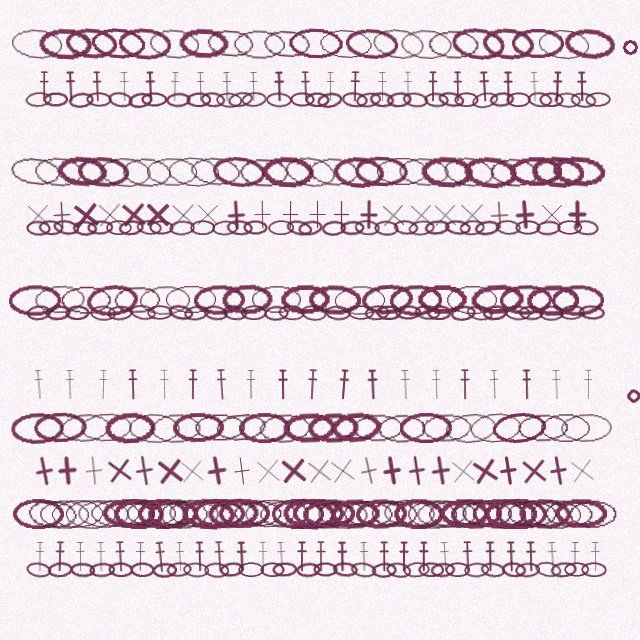chain: (282, 152, 338, 191), (450, 25, 507, 62), (370, 25, 426, 62), (7, 153, 63, 190), (441, 153, 497, 190), (536, 26, 592, 62), (462, 154, 518, 190), (491, 410, 547, 446), (211, 154, 266, 190), (85, 282, 140, 318), (443, 410, 498, 446), (90, 26, 146, 61), (117, 26, 173, 61), (563, 26, 617, 62), (9, 26, 64, 61), (481, 26, 536, 61), (166, 154, 221, 189), (188, 154, 243, 189), (530, 154, 585, 189), (551, 154, 606, 189), (360, 282, 415, 317), (213, 410, 268, 445), (468, 410, 523, 445), (64, 26, 118, 61), (147, 26, 201, 61), (32, 154, 86, 189), (25, 496, 79, 531), (318, 27, 373, 61), (344, 27, 399, 61), (76, 155, 131, 189), (98, 155, 153, 189), (257, 411, 312, 445), (204, 26, 257, 61), (56, 154, 109, 189), (330, 410, 383, 445), (399, 27, 453, 61), (120, 155, 174, 189), (307, 155, 361, 189), (332, 155, 386, 189), (397, 155, 451, 189), (58, 411, 112, 445), (288, 27, 343, 60), (79, 411, 134, 444), (243, 497, 298, 530), (488, 155, 541, 189), (38, 27, 92, 60), (354, 155, 408, 188), (33, 283, 87, 316), (470, 283, 524, 316), (33, 411, 87, 444), (181, 497, 235, 530), (282, 497, 336, 530), (382, 497, 436, 530), (261, 27, 313, 61), (127, 412, 182, 444), (559, 412, 614, 444), (261, 155, 314, 188), (420, 155, 473, 188), (221, 283, 274, 316), (104, 411, 157, 444), (167, 497, 220, 530), (207, 497, 260, 530), (232, 28, 286, 60), (426, 28, 480, 60), (8, 284, 62, 316), (138, 284, 192, 316), (499, 284, 553, 316), (551, 284, 605, 316), (10, 412, 64, 444), (149, 412, 203, 444), (282, 412, 336, 444), (420, 412, 474, 444), (50, 498, 104, 530), (76, 498, 130, 530), (316, 498, 370, 530), (415, 498, 469, 530), (472, 498, 526, 530), (518, 498, 572, 530), (178, 27, 230, 60), (145, 156, 198, 188), (237, 156, 290, 188), (193, 284, 246, 316), (308, 284, 361, 316), (333, 284, 386, 316), (389, 284, 442, 316), (526, 284, 579, 316), (307, 412, 360, 444), (351, 412, 404, 444), (516, 412, 569, 444), (64, 498, 117, 530), (258, 498, 311, 530), (302, 498, 355, 530), (341, 498, 394, 530), (355, 498, 408, 530), (450, 498, 503, 530), (505, 498, 558, 530), (529, 498, 582, 530), (511, 28, 565, 59), (375, 156, 429, 187), (399, 412, 453, 443), (376, 412, 428, 444), (38, 498, 90, 530), (147, 498, 199, 530), (158, 498, 210, 530), (406, 498, 458, 530), (543, 498, 595, 530), (509, 156, 562, 187), (59, 284, 112, 315), (164, 284, 217, 315), (250, 284, 303, 315), (445, 284, 498, 315), (172, 412, 225, 443), (193, 412, 246, 443), (539, 412, 592, 443), (89, 498, 142, 529), (102, 498, 155, 529), (125, 498, 178, 529), (193, 498, 246, 529), (218, 498, 271, 529), (271, 498, 324, 529), (292, 498, 345, 529), (460, 498, 513, 529), (484, 498, 537, 529), (495, 498, 548, 529), (554, 498, 607, 529), (112, 284, 163, 316), (330, 498, 381, 530), (369, 498, 420, 530), (238, 412, 290, 443), (12, 498, 64, 529), (113, 498, 165, 529), (137, 498, 189, 529), (232, 498, 284, 529), (393, 498, 445, 529), (426, 498, 478, 529), (567, 498, 619, 529), (280, 284, 331, 315), (417, 284, 468, 315), (439, 498, 490, 529), (471, 90, 499, 110), (285, 218, 313, 238), (437, 90, 465, 109), (52, 218, 80, 237), (129, 303, 157, 322), (534, 560, 562, 579), (107, 90, 134, 109), (227, 90, 254, 109), (167, 303, 194, 322), (127, 91, 154, 109), (316, 91, 343, 109), (355, 91, 382, 109), (402, 91, 429, 109), (570, 91, 597, 109), (297, 219, 324, 237), (408, 219, 435, 237), (183, 304, 210, 322), (202, 304, 229, 322), (300, 304, 327, 322), (466, 304, 493, 322), (25, 561, 52, 579), (350, 561, 377, 579), (385, 561, 412, 579), (68, 91, 94, 109), (474, 219, 500, 237), (450, 304, 476, 322), (480, 561, 506, 579), (25, 91, 52, 108), (341, 91, 368, 108), (226, 219, 253, 236), (444, 219, 471, 236), (278, 304, 305, 321), (414, 304, 441, 321), (578, 304, 605, 321), (403, 561, 430, 578), (550, 561, 577, 578), (200, 91, 226, 108), (241, 91, 267, 108), (369, 91, 395, 108), (386, 91, 412, 108), (489, 91, 515, 108), (527, 91, 553, 108), (38, 219, 64, 236), (118, 219, 144, 236), (136, 219, 162, 236), (354, 219, 380, 236), (393, 219, 419, 236), (424, 219, 450, 236), (459, 219, 485, 236), (495, 219, 521, 236), (573, 219, 599, 236), (26, 304, 52, 321), (45, 304, 71, 321), (222, 304, 248, 321), (364, 304, 390, 321), (482, 304, 508, 321), (559, 304, 585, 321), (47, 561, 73, 578), (166, 561, 192, 578), (219, 561, 245, 578), (332, 561, 358, 578), (501, 561, 527, 578), (554, 92, 581, 108), (216, 92, 242, 108), (266, 92, 292, 108), (72, 220, 98, 236), (169, 220, 195, 236), (212, 220, 238, 236), (321, 220, 347, 236), (90, 305, 116, 321), (107, 305, 133, 321), (325, 305, 351, 321), (505, 305, 531, 321), (518, 305, 544, 321), (89, 562, 115, 578), (183, 562, 209, 578), (371, 562, 397, 578), (430, 562, 456, 578), (166, 92, 191, 108), (424, 92, 449, 108), (26, 220, 51, 236), (340, 220, 365, 236), (374, 220, 399, 236), (536, 220, 561, 236), (264, 305, 289, 321), (539, 305, 564, 321), (70, 562, 95, 578), (152, 562, 177, 578), (204, 562, 229, 578), (296, 562, 321, 578), (464, 562, 489, 578), (515, 562, 540, 578), (86, 92, 112, 107), (141, 92, 167, 107), (585, 92, 611, 107), (87, 220, 113, 235), (106, 220, 132, 235), (268, 220, 294, 235), (515, 220, 541, 235), (147, 305, 173, 320), (241, 305, 267, 320), (348, 305, 374, 320), (395, 305, 421, 320), (238, 562, 264, 577), (418, 562, 444, 577), (581, 562, 607, 577), (43, 92, 68, 107), (186, 92, 211, 107), (290, 92, 315, 107), (305, 92, 330, 107), (454, 92, 479, 107), (506, 92, 531, 107), (539, 92, 564, 107), (149, 220, 174, 235), (190, 220, 215, 235), (243, 220, 268, 235), (557, 220, 582, 235), (65, 305, 90, 320), (376, 305, 401, 320), (427, 305, 452, 320), (108, 562, 133, 577), (130, 562, 155, 577), (260, 562, 285, 577), (272, 562, 297, 577), (313, 562, 338, 577), (445, 562, 470, 577), (564, 562, 589, 577)
half_double: (153, 541, 168, 573), (32, 369, 46, 400), (337, 369, 351, 400), (64, 71, 77, 102), (144, 71, 157, 102), (299, 71, 312, 102), (478, 71, 491, 102), (528, 71, 541, 102), (551, 71, 564, 102), (215, 369, 228, 400), (306, 369, 319, 400), (366, 369, 379, 400), (399, 369, 412, 400), (550, 369, 563, 400), (114, 541, 127, 572), (213, 541, 226, 572), (235, 541, 248, 572), (275, 541, 288, 572), (438, 541, 451, 572), (461, 541, 474, 572), (546, 541, 559, 572), (38, 71, 50, 102), (91, 71, 103, 102), (118, 71, 130, 102), (169, 71, 181, 102), (221, 71, 233, 102), (273, 71, 285, 102), (349, 71, 361, 102), (376, 71, 388, 102), (402, 71, 414, 102), (427, 71, 439, 102), (502, 71, 514, 102), (576, 71, 588, 102), (64, 369, 76, 400), (97, 369, 109, 400), (127, 369, 139, 400), (158, 369, 170, 400), (187, 369, 199, 400), (245, 369, 257, 400), (277, 369, 289, 400), (430, 369, 442, 400), (459, 369, 471, 400), (488, 369, 500, 400), (582, 369, 594, 400), (34, 541, 46, 572), (54, 541, 66, 572), (74, 541, 86, 572), (95, 541, 107, 572), (134, 541, 146, 572), (174, 541, 186, 572), (257, 541, 269, 572), (296, 541, 308, 572), (315, 541, 327, 572), (336, 541, 348, 572), (358, 541, 370, 572), (378, 541, 390, 572), (398, 541, 410, 572), (484, 541, 496, 572), (505, 541, 517, 572), (525, 541, 537, 572), (569, 541, 581, 572), (589, 541, 601, 572), (195, 71, 206, 102), (248, 71, 259, 102), (325, 71, 336, 102), (452, 71, 463, 102), (521, 369, 532, 400), (194, 541, 205, 572), (418, 541, 429, 572)
noise: (621, 38, 639, 56), (626, 388, 640, 404)
single: (350, 452, 387, 489), (26, 453, 62, 489), (467, 453, 503, 489), (102, 453, 137, 488), (127, 453, 162, 488), (199, 453, 234, 488), (325, 453, 360, 488), (374, 453, 409, 488), (423, 453, 458, 488), (491, 453, 526, 488), (541, 453, 576, 488), (400, 453, 434, 488), (565, 453, 599, 488), (69, 198, 103, 232), (153, 454, 187, 488), (175, 454, 209, 488), (225, 454, 259, 488), (251, 454, 285, 488), (302, 454, 336, 488), (446, 454, 480, 488), (517, 454, 551, 488), (93, 198, 126, 231), (117, 198, 150, 231), (508, 198, 541, 231), (51, 454, 84, 487), (77, 454, 110, 487), (277, 454, 310, 487), (22, 199, 54, 231), (46, 199, 78, 231), (167, 199, 199, 231), (220, 199, 252, 231), (377, 199, 409, 231), (405, 199, 437, 231), (429, 199, 461, 231), (456, 199, 488, 231), (483, 199, 515, 231), (142, 199, 173, 230), (192, 199, 223, 230), (247, 199, 278, 230), (275, 199, 306, 230), (302, 199, 333, 230), (326, 199, 357, 230), (353, 199, 384, 230), (536, 199, 567, 230), (562, 199, 593, 230)
